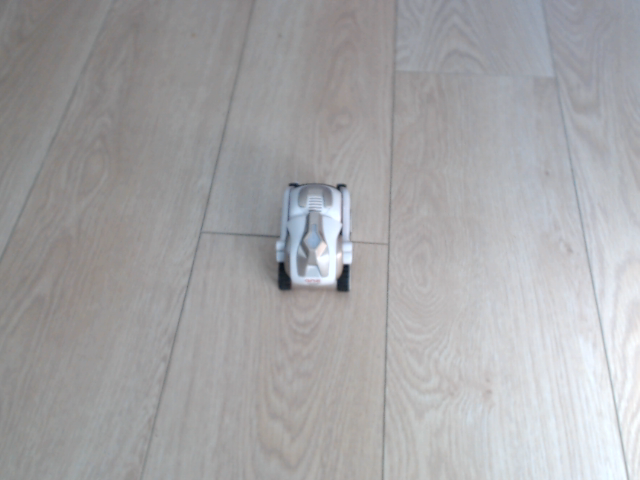cozmo: (274, 181, 355, 295)
